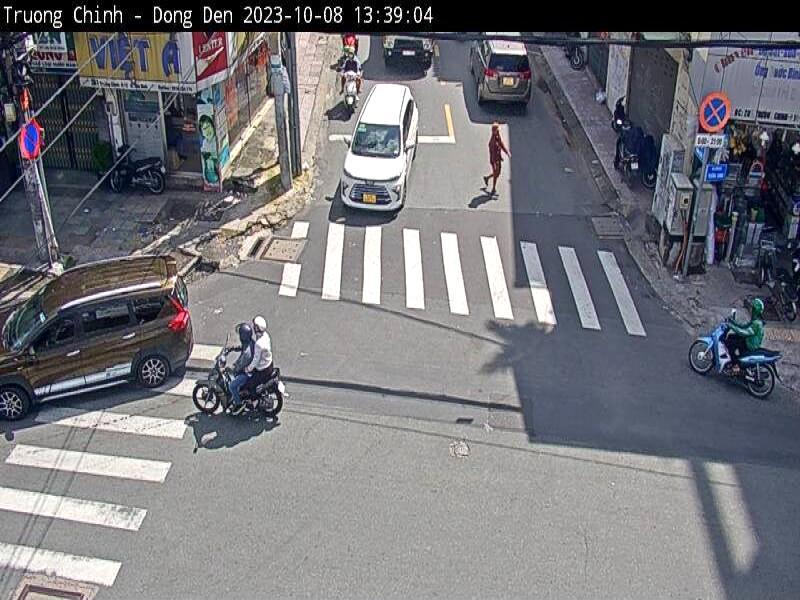car: (0, 255, 193, 421), (340, 83, 420, 214), (468, 31, 533, 108)
motorcycle: (688, 311, 782, 400), (193, 347, 286, 423), (112, 140, 167, 197), (342, 67, 360, 114), (612, 93, 630, 134)
